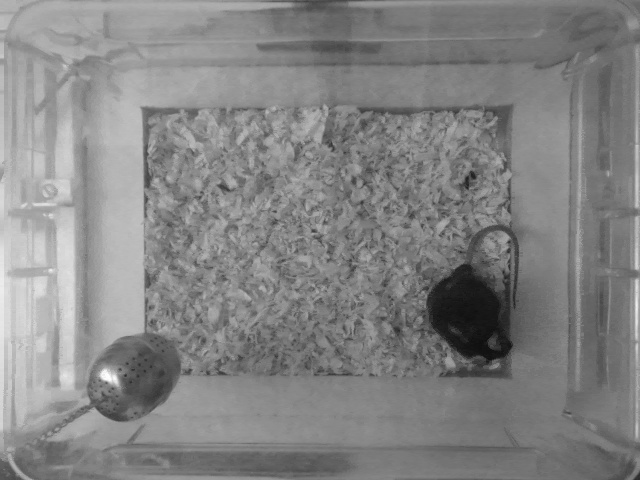mice: (419, 220, 520, 362)
